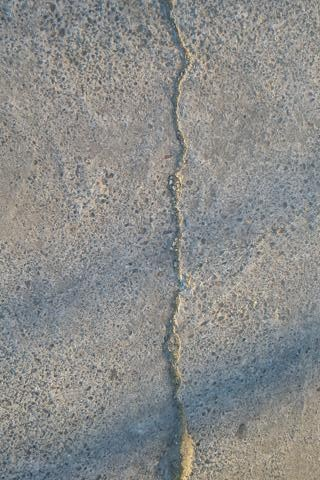A: (159, 2, 198, 480)
